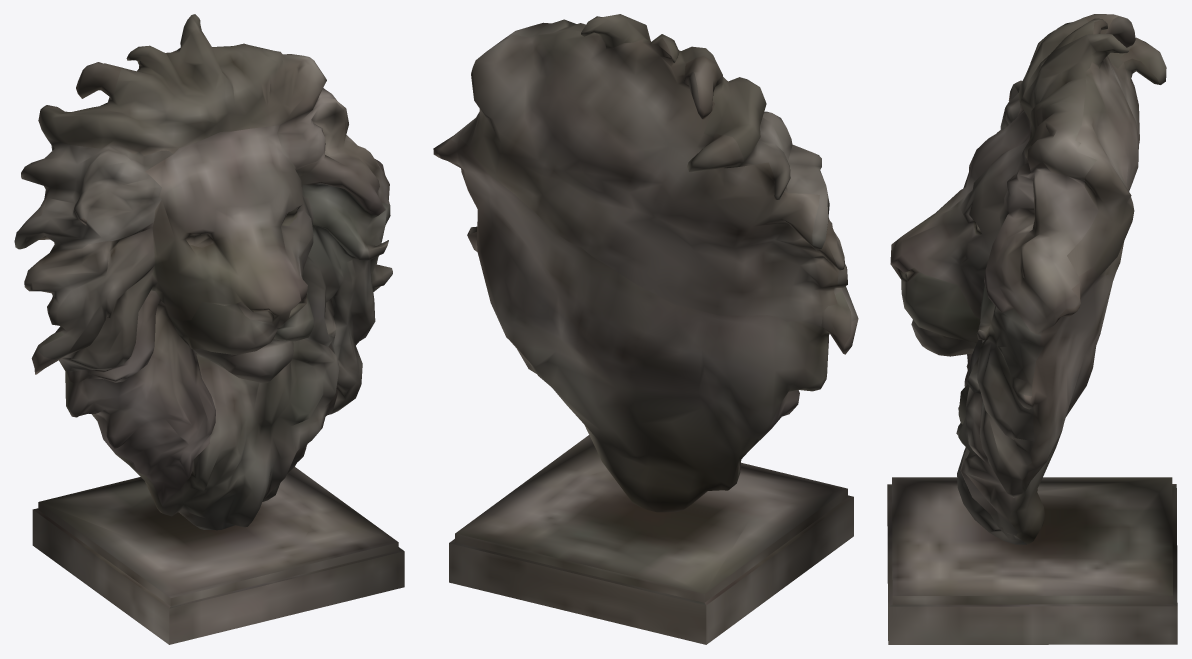
File: design-lion-head.glb
3 views of the same model, side by side, from view 1: azimuth 30°, elevation 25°; view 2: azimuth 150°, elevation 25°; view 3: azimuth 270°, elevation 25° (orthographic). The views are drawn at different scales.
Parts seen in each view (by area): view 1: lion_head; view 2: lion_head; view 3: lion_head.
Boxes of the visible parts, left/top/right/bottom form: lion_head: left=14, top=14, right=404, bottom=644; lion_head: left=433, top=14, right=858, bottom=644; lion_head: left=887, top=14, right=1177, bottom=644.
Size of the model in its own units: 0.3208 by 0.4358 by 0.2066.
Materials: 1 (1 with a texture image).
